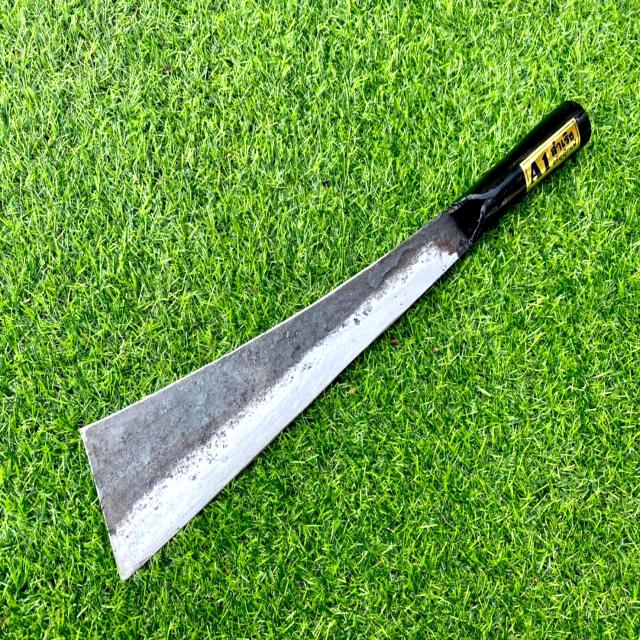eto: (61, 88, 608, 592)
